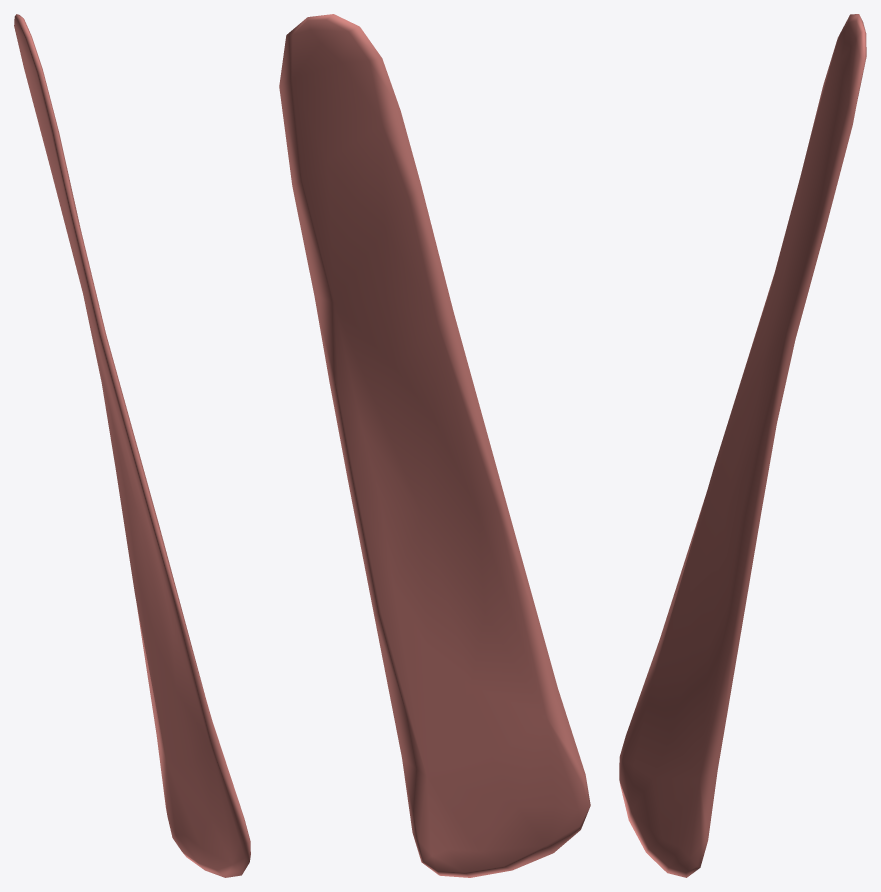
3 views of the same model, side by side, from view 1: azimuth 90°, elevation 25°; view 2: azimuth 150°, elevation 25°; view 3: azimuth 270°, elevation 25° (orthographic). The views are drawn at different scales.
Visible parts, largest first — view 1: ZA_16db5d425599c4f4; view 2: ZA_16db5d425599c4f4; view 3: ZA_16db5d425599c4f4.
Part boxes in pixels (<box>): ZA_16db5d425599c4f4: <box>14,14,250,877</box>; ZA_16db5d425599c4f4: <box>279,14,590,877</box>; ZA_16db5d425599c4f4: <box>619,14,866,877</box>.
Size of the model in its own units: 0.00922 by 0.0432 by 0.0111.
